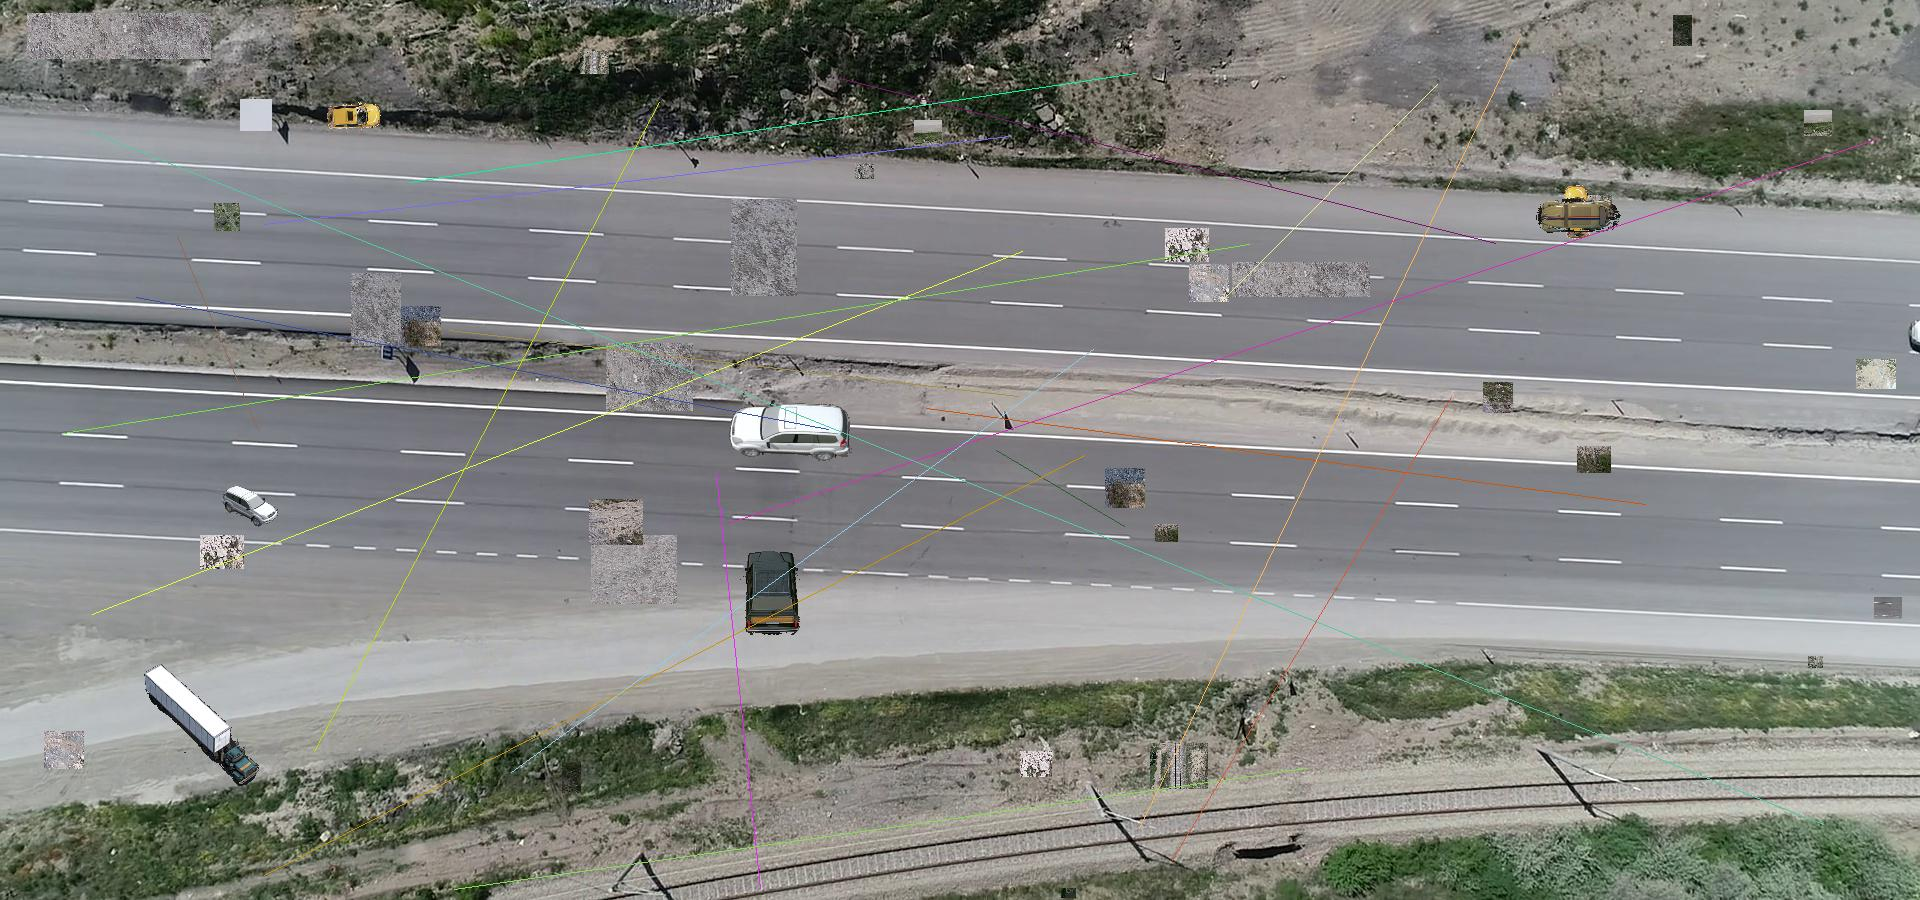arac: (140, 664, 260, 786), (729, 400, 855, 460), (740, 551, 801, 636), (1536, 198, 1622, 235), (220, 484, 278, 527), (1562, 182, 1594, 240), (327, 100, 381, 132)
